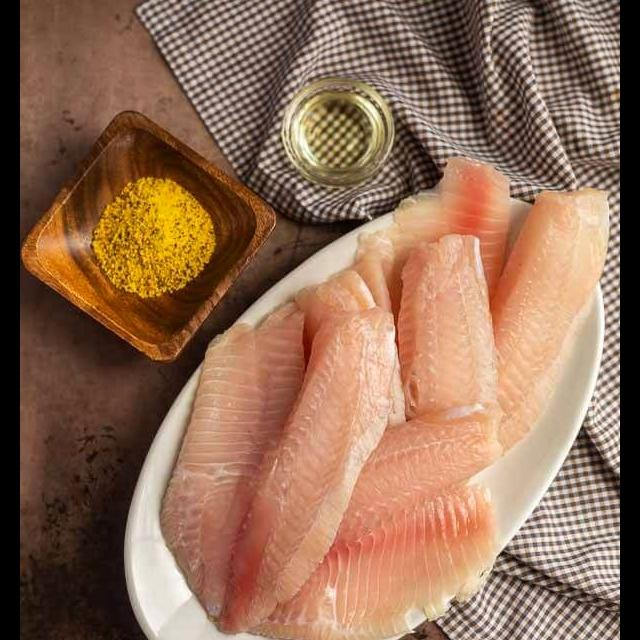fish: (196, 300, 409, 640)
